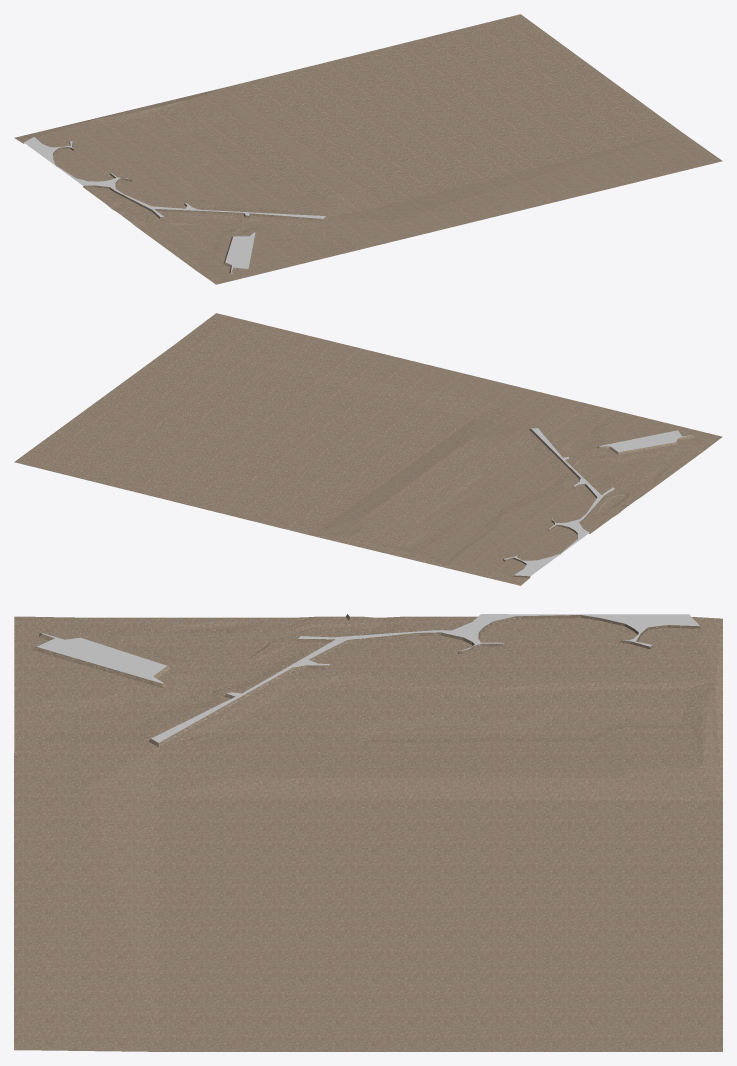
File: MangaliaTerrain.dae
3 views of the same model, one above another, from view 1: azimuth 30°, elevation 25°; view 2: azimuth 150°, elevation 25°; view 3: azimuth 270°, elevation 25° (orthographic). The views are drawn at different scales.
Parts seen in each view (by area): view 1: ground, land; view 2: ground, land; view 3: ground, land.
Boxes of the visible parts, x1,y1,x2,y2 form: ground: (14,14,722,284); land: (24,137,325,271); ground: (14,313,722,585); land: (504,428,691,576); ground: (14,614,722,1051); land: (37,614,699,742).
Size of the model in its own units: 4125 by 2852 by 29.28.
